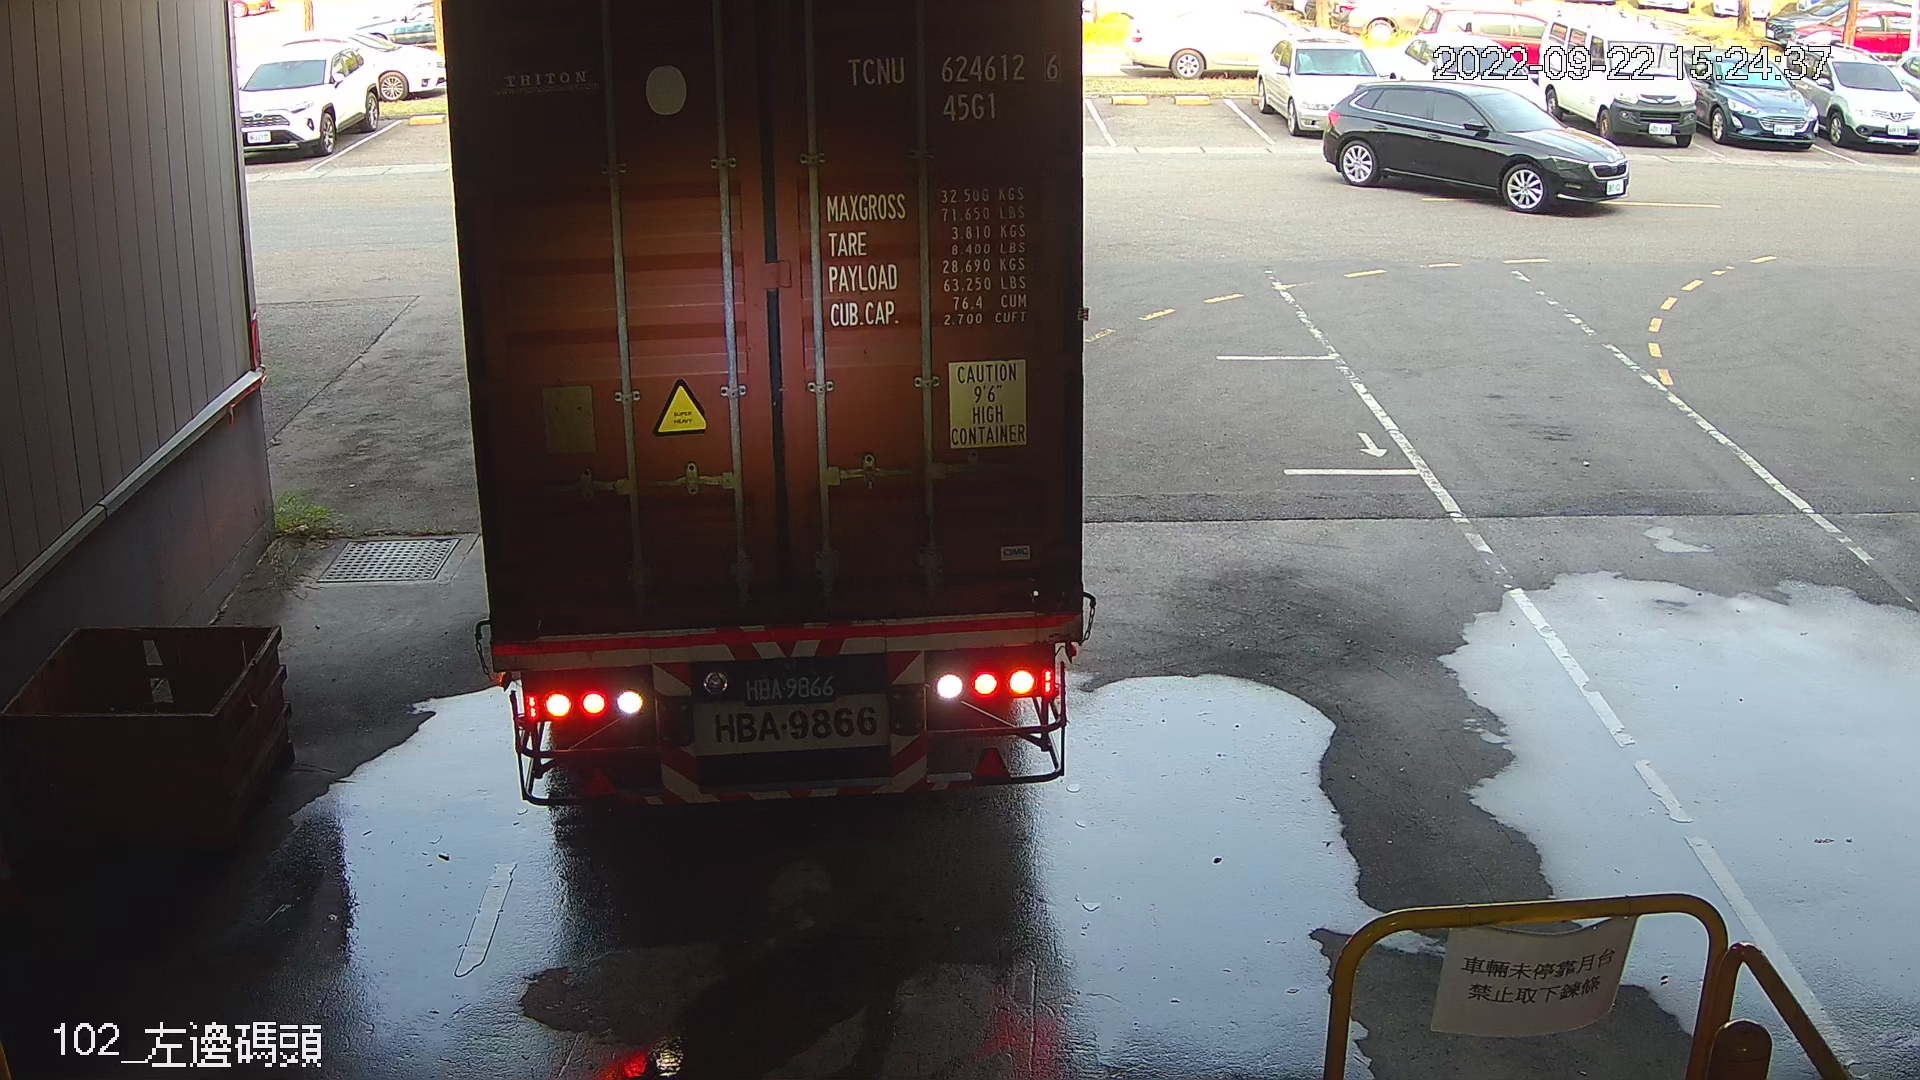container: (832, 45, 1065, 129)
